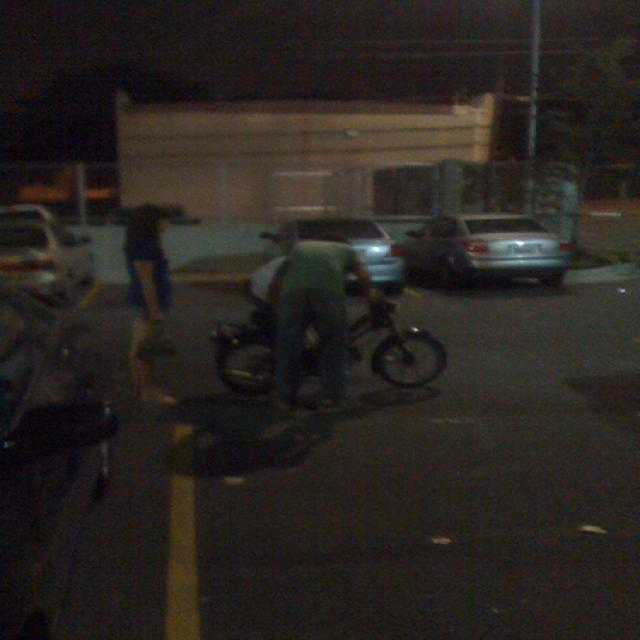Motorbike: (174, 266, 470, 434)
